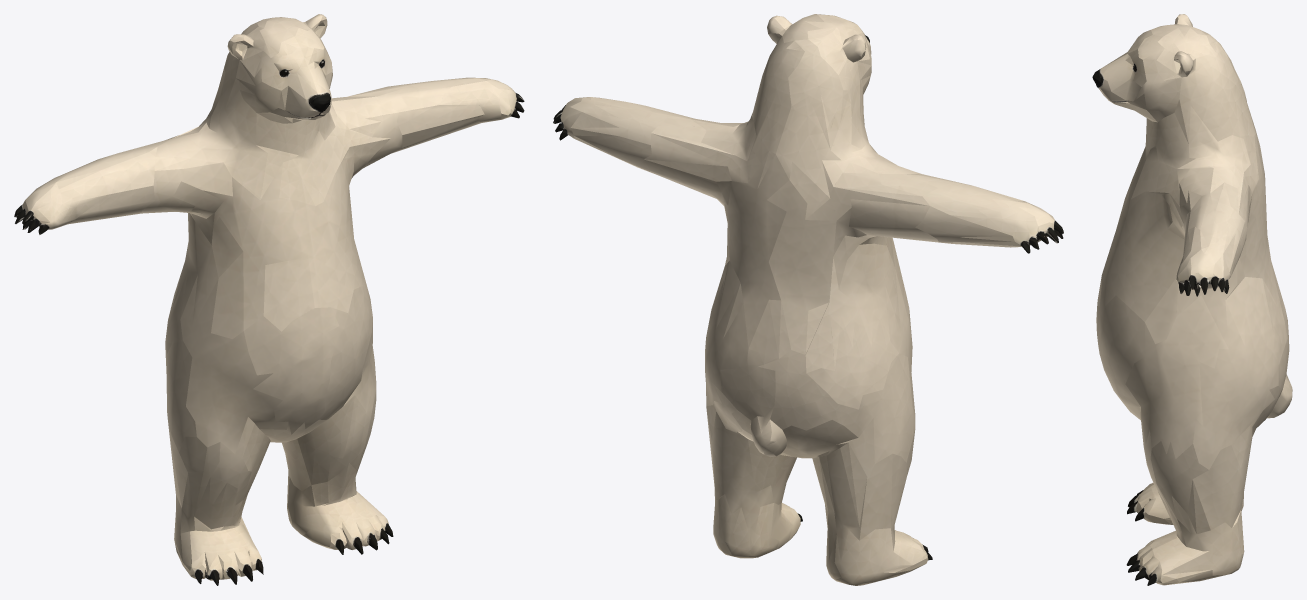
File: polar-bear-tpose.glb
3 views of the same model, side by side, from view 1: azimuth 30°, elevation 25°; view 2: azimuth 150°, elevation 25°; view 3: azimuth 270°, elevation 25° (orthographic). The views are drawn at different scales.
Parts seen in each view (by area): view 1: output_unwrapped; view 2: output_unwrapped; view 3: output_unwrapped.
Boxes of the visible parts, x1,y1,x2,y2 form: output_unwrapped: (14,14,524,585); output_unwrapped: (553,14,1063,585); output_unwrapped: (1092,14,1292,585).
Bounding box in the file's own units: 1.9 × 1.9 × 0.6741.
Materials: 1 (1 with a texture image).
